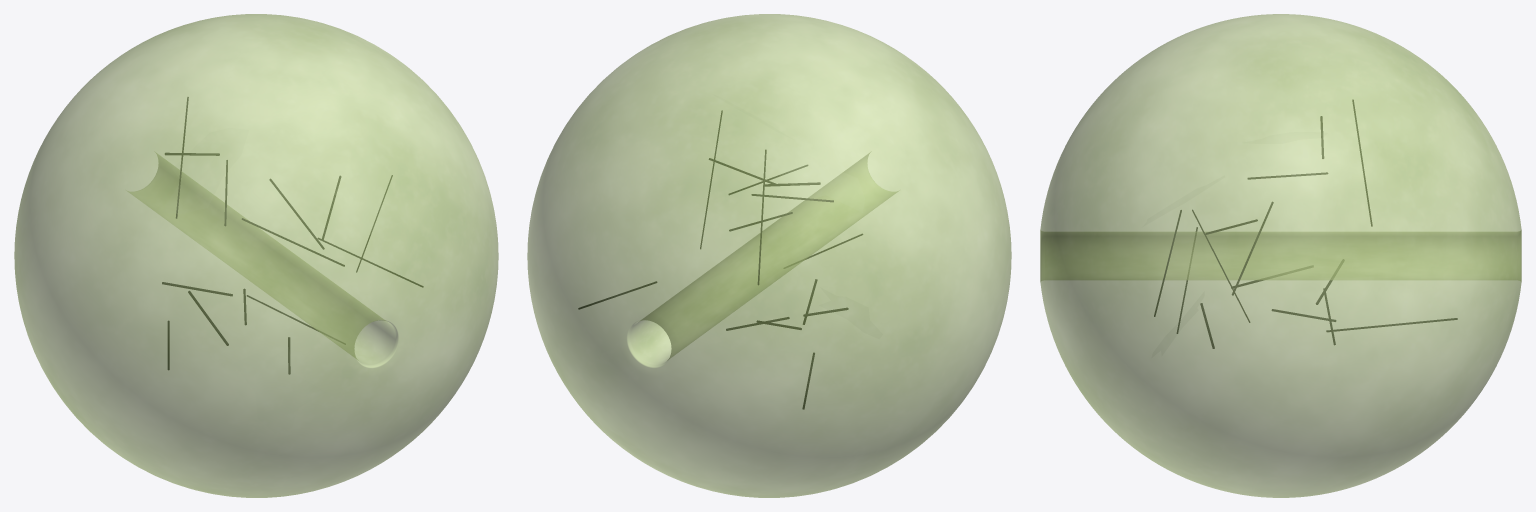
The model's file is prehnite-10mm.glb.
3 renders of one model, left to right at view 1: azimuth 30°, elevation 25°; view 2: azimuth 150°, elevation 25°; view 3: azimuth 270°, elevation 25°, orthographic.
Visible parts, largest first — view 1: prehnite.001, prehnite_WEB_needles_14; view 2: prehnite.001, prehnite_WEB_needles_14; view 3: prehnite.001, prehnite_WEB_needles_14.
Part boxes in pixels (x1,y1,x2,y2): prehnite.001: (14, 14, 498, 497); prehnite_WEB_needles_14: (162, 97, 423, 374); prehnite.001: (527, 14, 1011, 497); prehnite_WEB_needles_14: (578, 110, 862, 409); prehnite.001: (1040, 14, 1521, 497); prehnite_WEB_needles_14: (1154, 100, 1457, 348).
Size of the model in its own units: 0.01 by 0.01 by 0.00994.
Materials: 3 (1 with a texture image).
